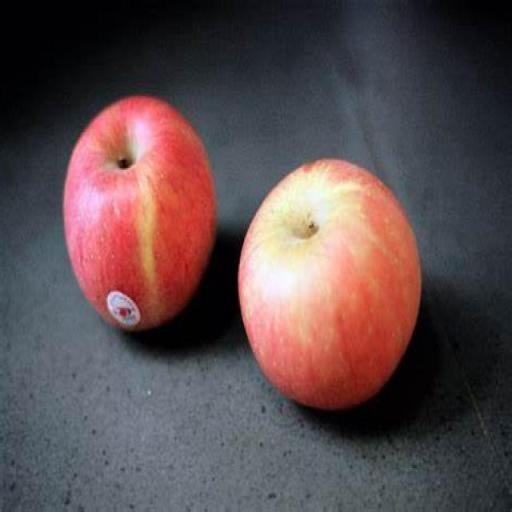fruit: (238, 160, 419, 409), (64, 96, 215, 330)
